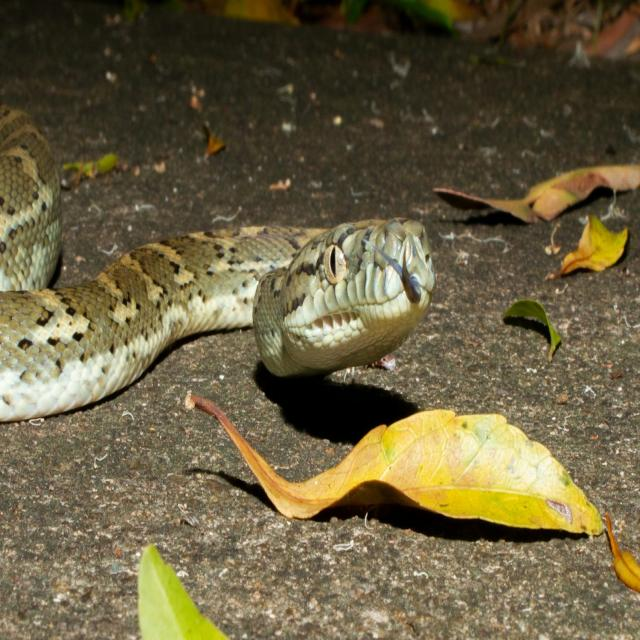Snake: (0, 57, 436, 427)
